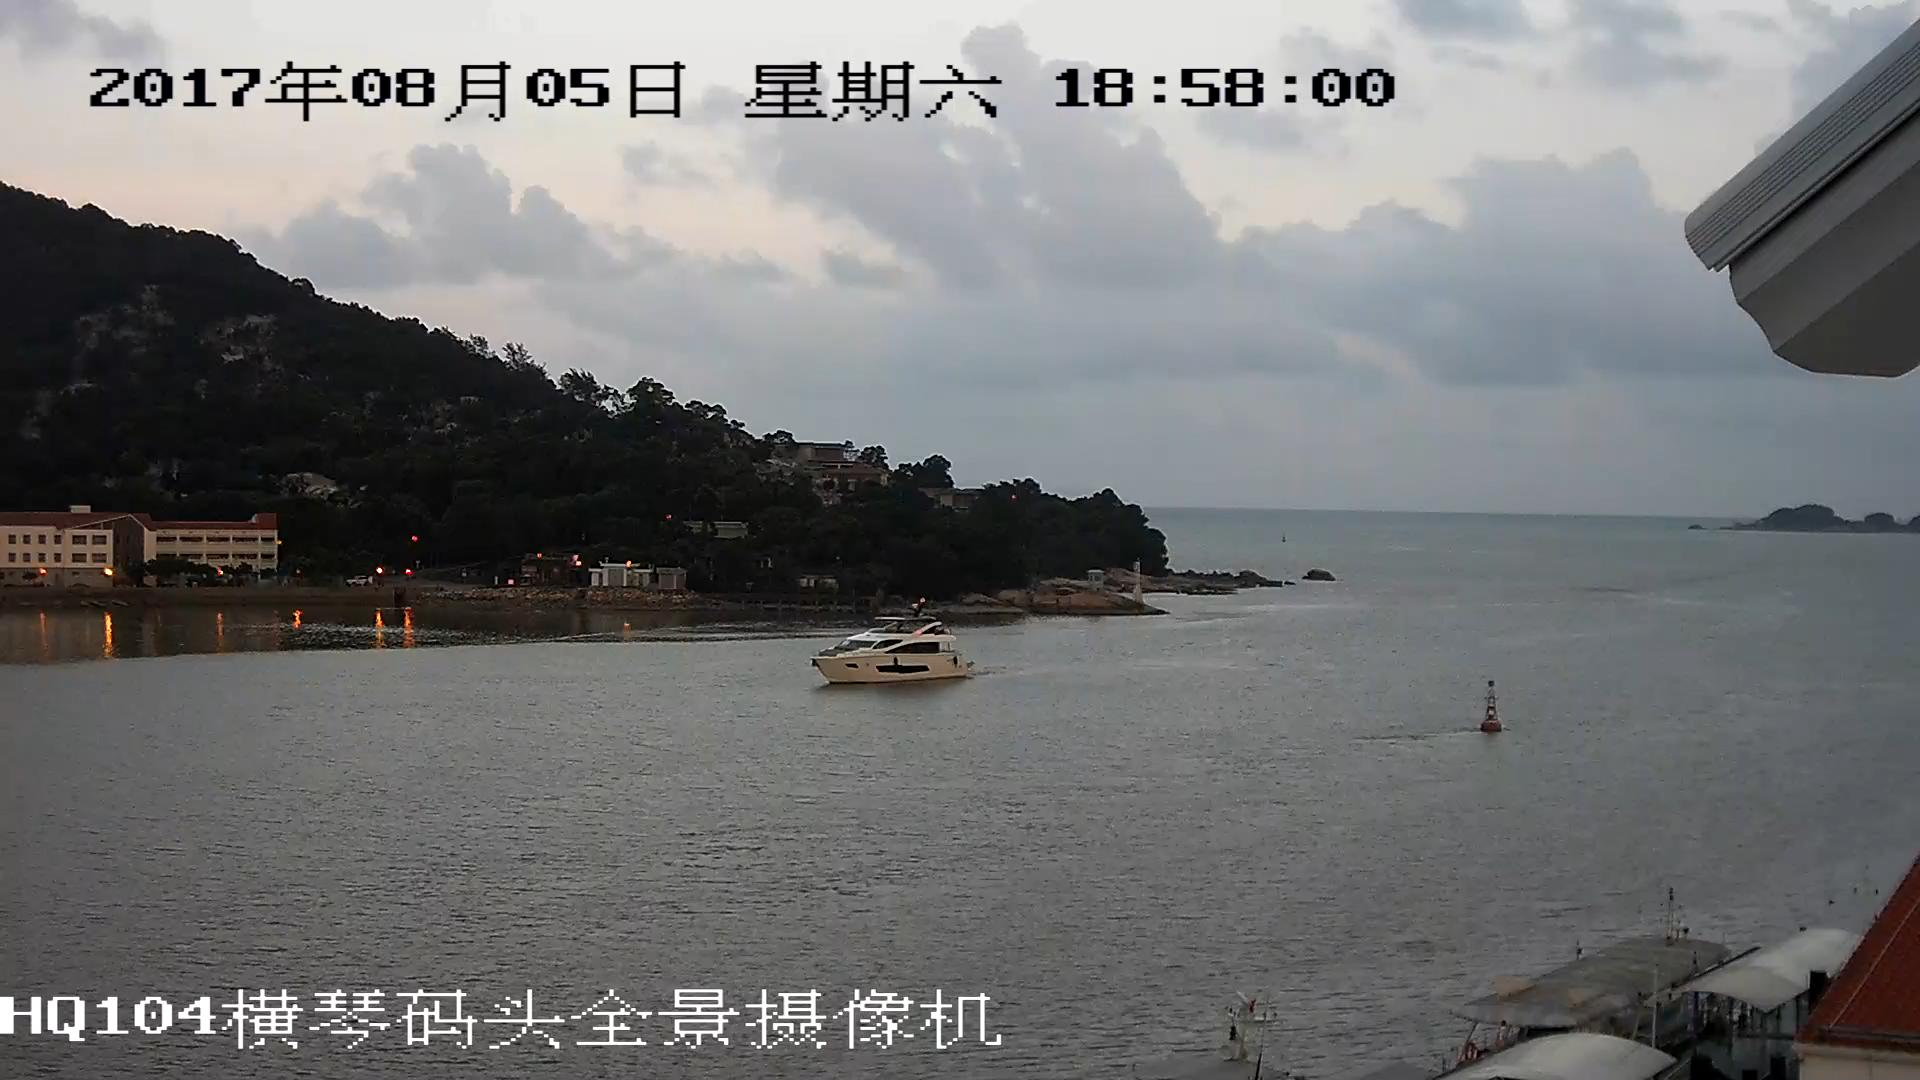passenger ship: (804, 617, 970, 685)
